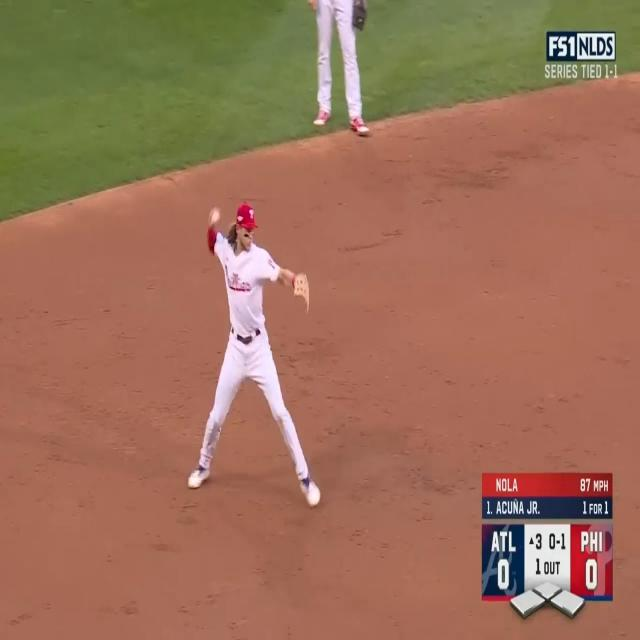baseball: (212, 208, 219, 222)
